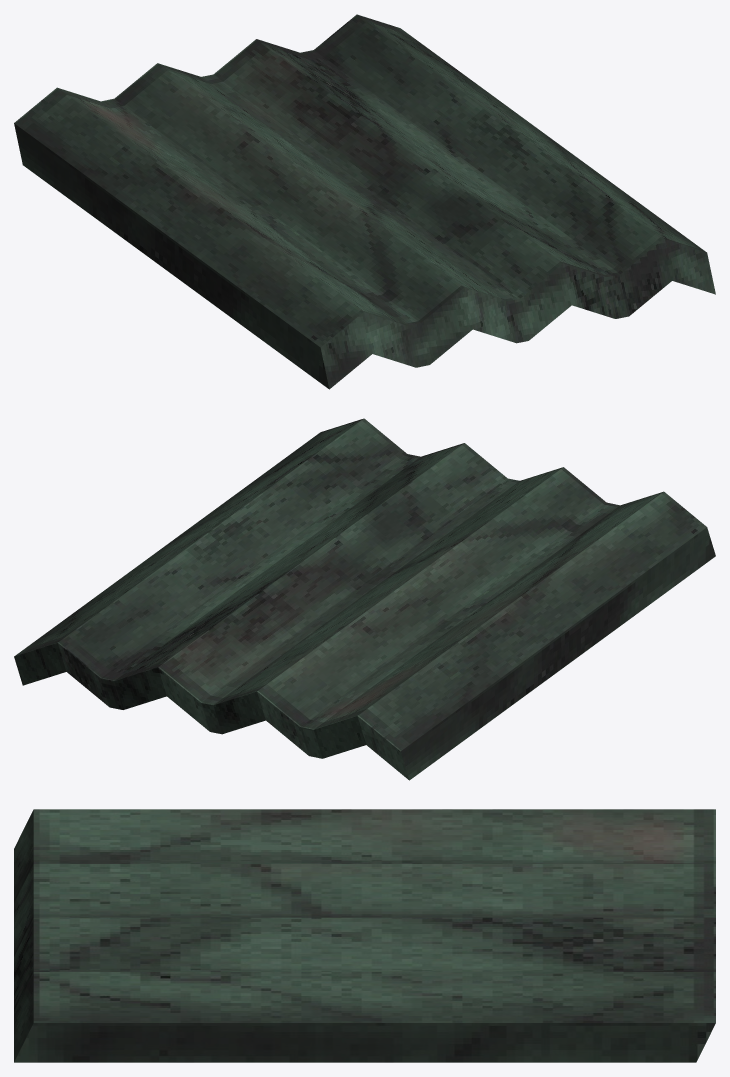
Rendered from roof1.fbx.
3 views of the same model, one above another, from view 1: azimuth 30°, elevation 25°; view 2: azimuth 150°, elevation 25°; view 3: azimuth 270°, elevation 25° (orthographic). The views are drawn at different scales.
Visible parts, largest first — view 1: Cube.063; view 2: Cube.063; view 3: Cube.063.
Part boxes in pixels (bbox=[...]): Cube.063: bbox=[14, 14, 715, 389]; Cube.063: bbox=[14, 418, 715, 780]; Cube.063: bbox=[14, 809, 715, 1062].
Bounding box in the file's own units: 1154 × 173 × 1631.
